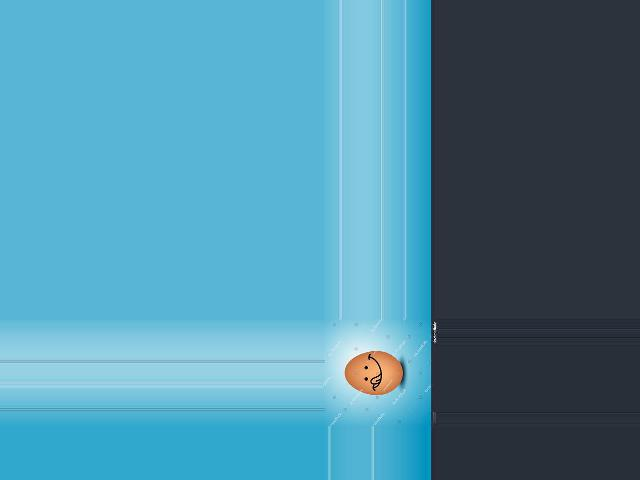egg: (344, 351, 402, 395)
